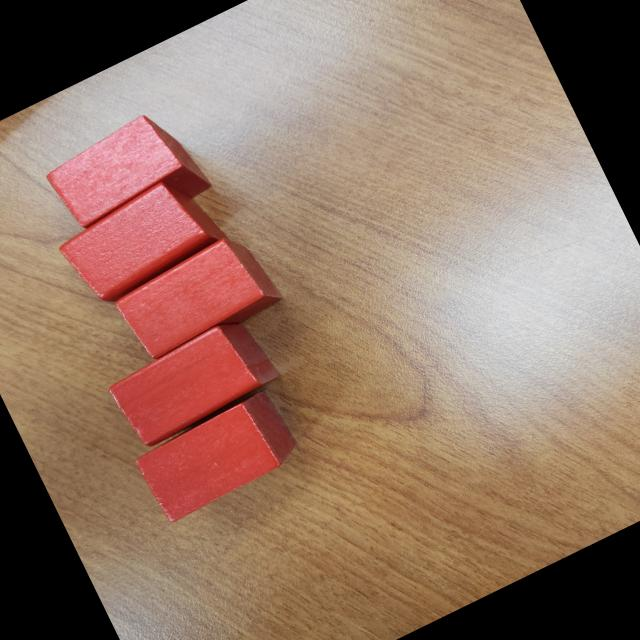red: (49, 163, 236, 314), (103, 306, 290, 452), (38, 99, 215, 252), (128, 383, 309, 530), (107, 223, 287, 370)
